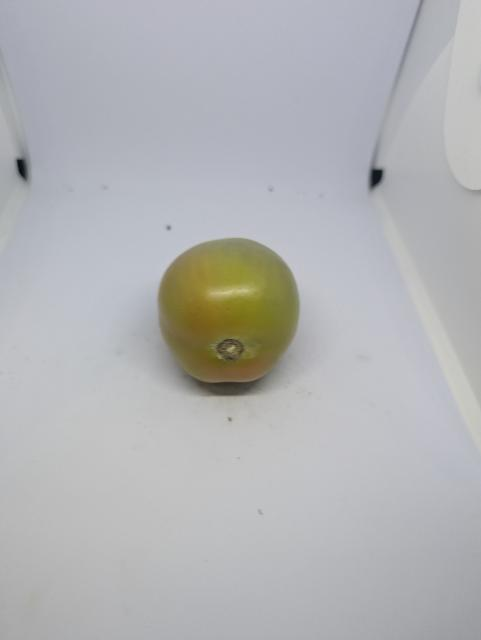breaker: (152, 237, 304, 392)
